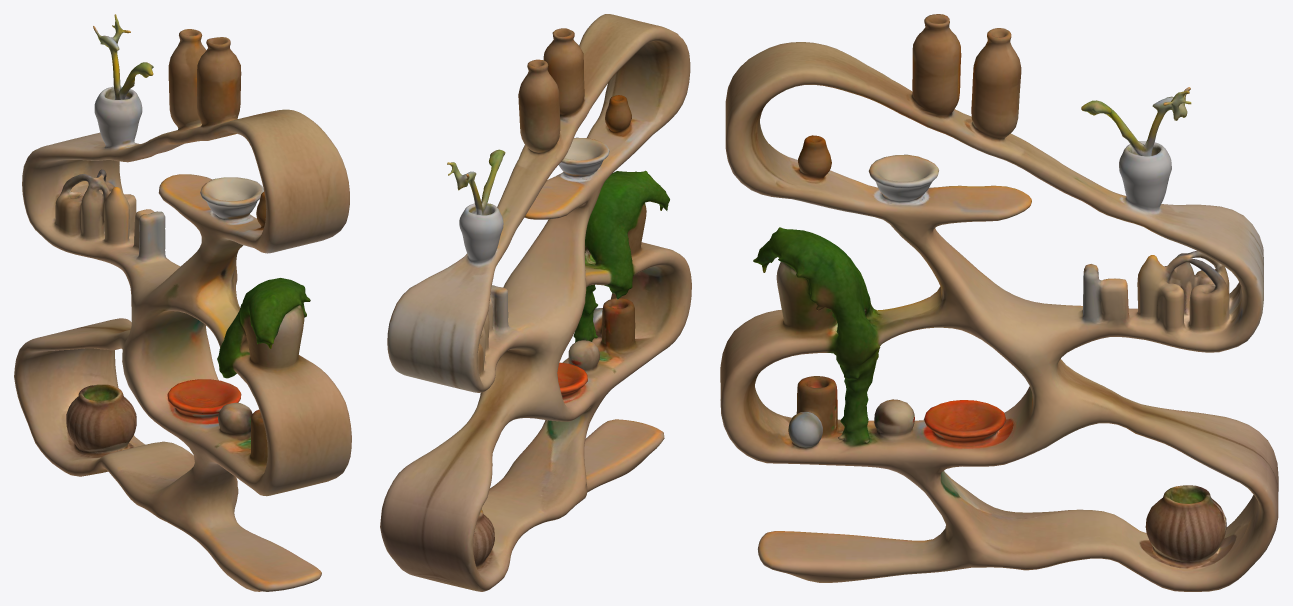
Rendered from tripo_bookshelf.fbx.
The picture shows the model from 3 angles, left to right: view 1: azimuth 30°, elevation 25°; view 2: azimuth 150°, elevation 25°; view 3: azimuth 270°, elevation 25°; orthographic projection. The views are drawn at different scales.
Parts seen in each view (by area): view 1: tripo_node_39e9606e-0c4f-45ef-bc38-407235c8e282; view 2: tripo_node_39e9606e-0c4f-45ef-bc38-407235c8e282; view 3: tripo_node_39e9606e-0c4f-45ef-bc38-407235c8e282.
Boxes of the visible parts, x1=… form: tripo_node_39e9606e-0c4f-45ef-bc38-407235c8e282: x1=14, y1=14, x2=351, y2=591; tripo_node_39e9606e-0c4f-45ef-bc38-407235c8e282: x1=380, y1=14, x2=691, y2=591; tripo_node_39e9606e-0c4f-45ef-bc38-407235c8e282: x1=720, y1=14, x2=1278, y2=591.
Bounding box in the file's own units: 19.44 × 94.65 × 86.14.
Materials: 1 (1 with a texture image).
